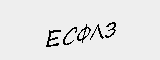А: (46, 15, 69, 31), (83, 20, 101, 34)
Д: (100, 21, 122, 37)
Ж: (13, 14, 44, 32)
Н: (121, 20, 141, 37)
Ғ: (68, 18, 82, 32)
